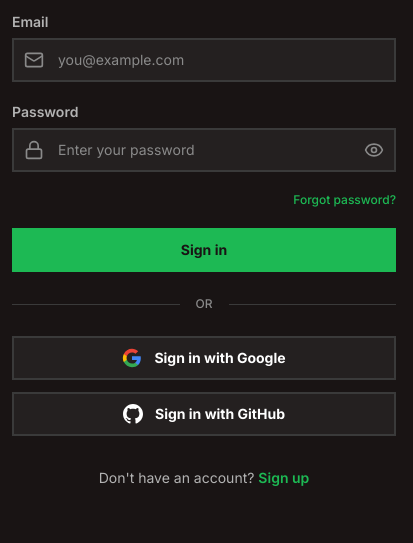
Test: LoginForm › shows validation errors for empty form submission
The width and height of the screenshot is (413, 543).
Click the button "Sign in": [204, 250] box [12,228,396,272]
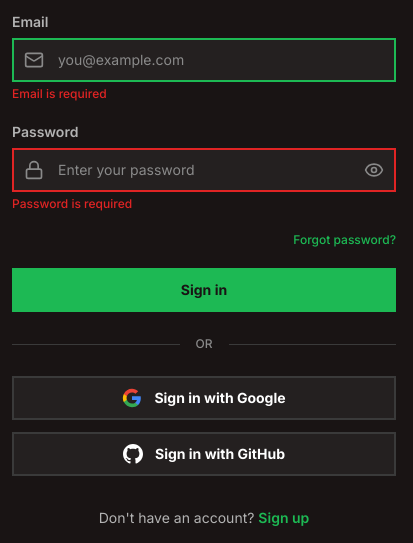
Expected: the text "Email is required" is shown, [12,86,107,101]
Expected: the text "Password is required" is shown, [12,196,132,211]
